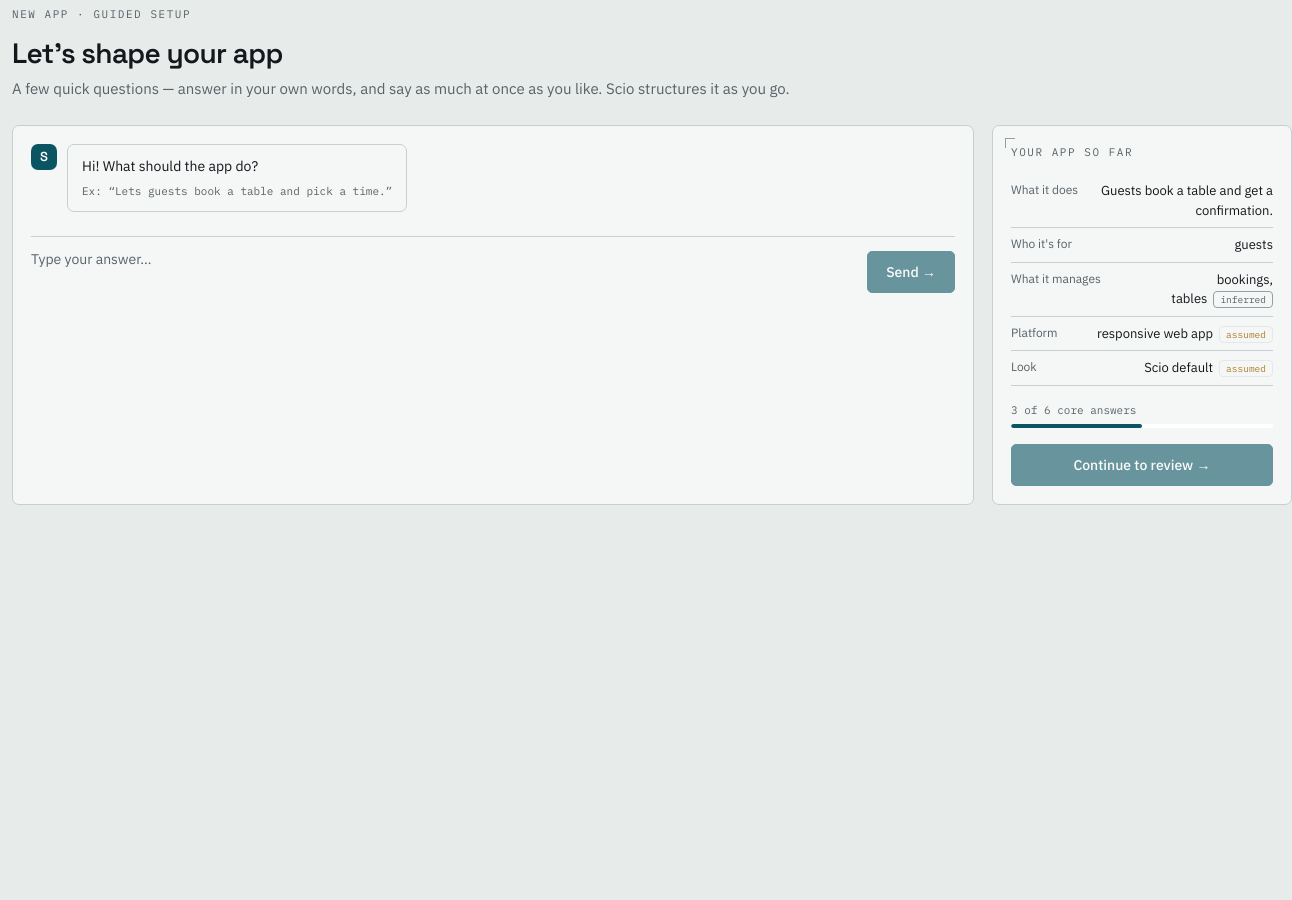
Scenario: Wizard › shows a failed turn without losing the conversation
Type "hello?" into the text box labelled "your answer" at (445,271), box [31,249,859,293]
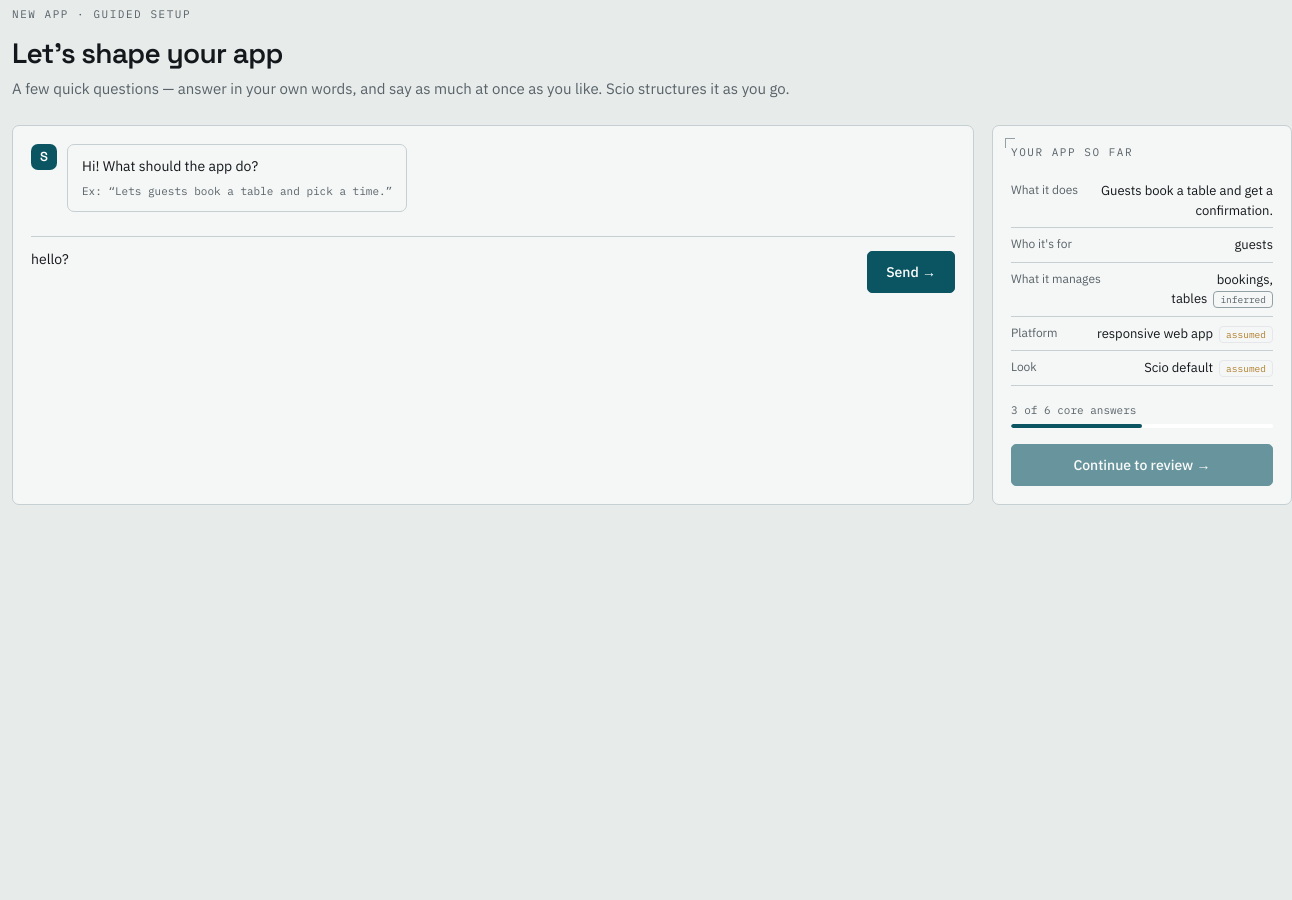
Click the button "Send →" at (911,272), box [867,251,955,293]
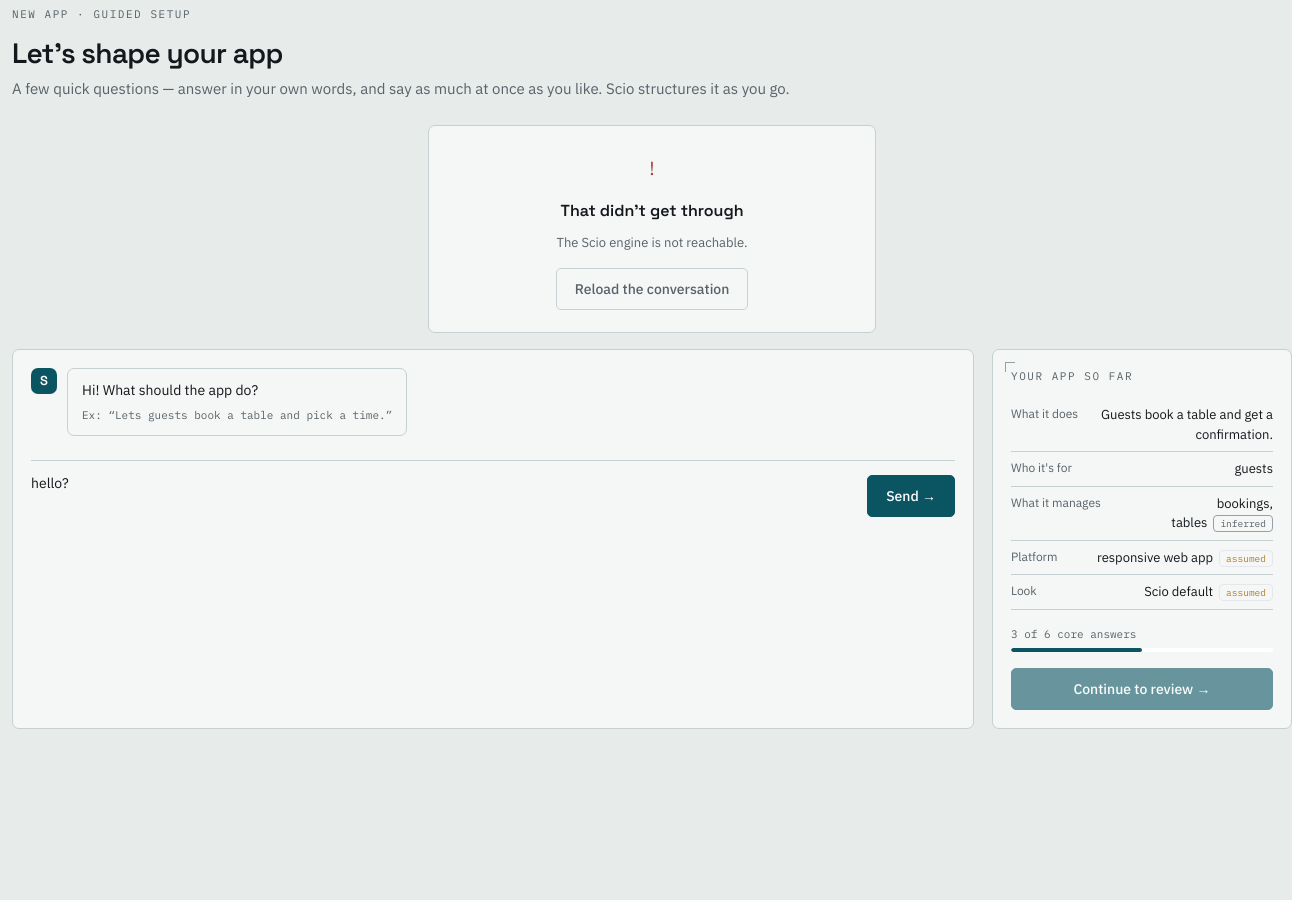
Expected: the text "What it does" is shown, [1011,406,1078,421]
Expected: the text "The Scio engine is not reachable." is shown, [556,232,748,253]
